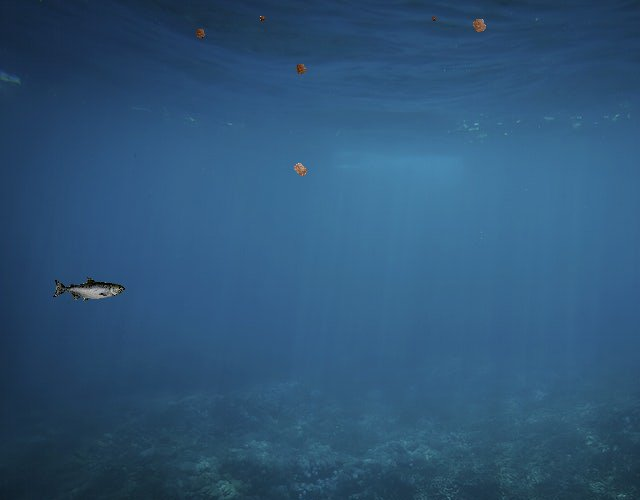Fish: (53, 276, 126, 303)
Pellet: (286, 155, 314, 183), (290, 58, 312, 80), (256, 13, 268, 25)
